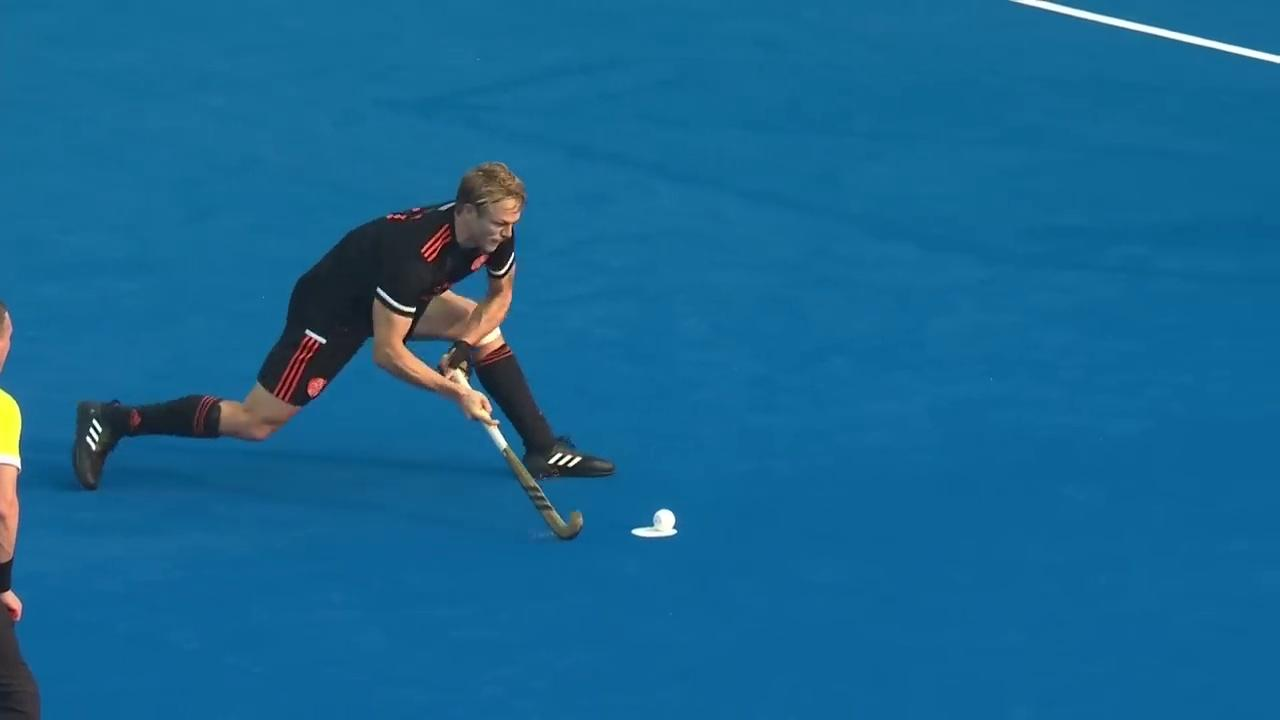ball: (637, 501, 685, 552)
